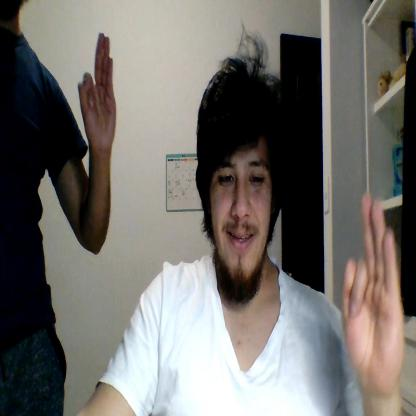F: (342, 192, 405, 389), (78, 32, 116, 147)
